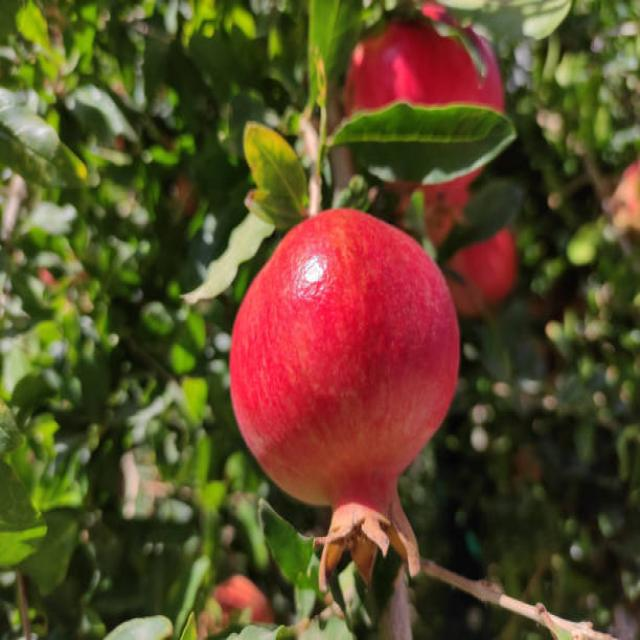Ripe: (226, 204, 460, 592)
